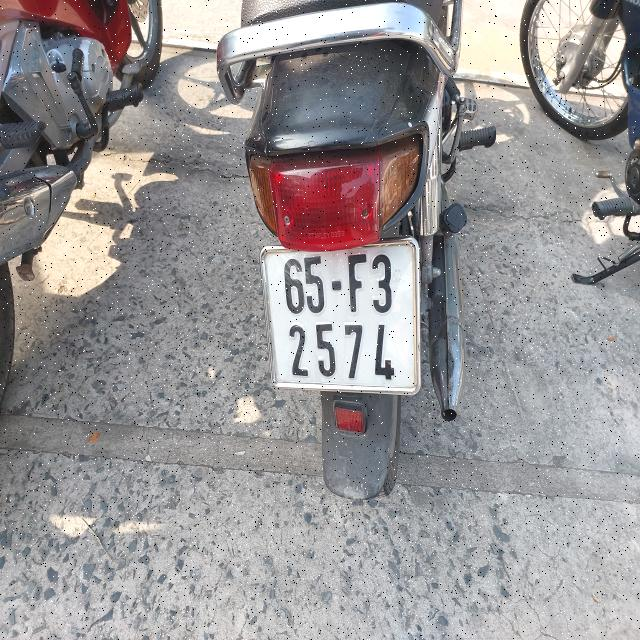2: (288, 320, 310, 381)
3: (370, 253, 394, 315)
4: (370, 325, 397, 379)
5: (303, 253, 327, 315), (314, 322, 339, 379)
6: (282, 257, 305, 314)
7: (344, 322, 364, 378)
F: (344, 251, 368, 313)
